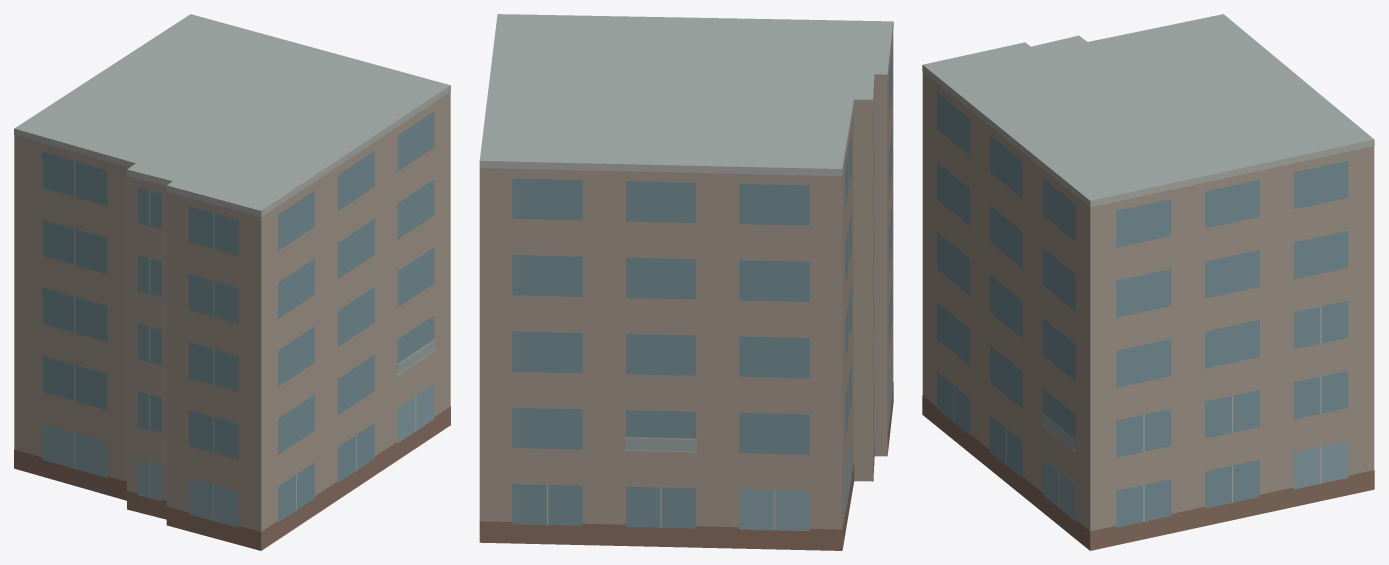
File: survey-upis-32754038.glb
3 views of the same model, side by side, from view 1: azimuth 30°, elevation 25°; view 2: azimuth 150°, elevation 25°; view 3: azimuth 270°, elevation 25° (orthographic). The views are drawn at different scales.
Visible parts, largest first — view 1: survey-upis-32754038.tmp; view 2: survey-upis-32754038.tmp; view 3: survey-upis-32754038.tmp.
Boxes of the visible parts, x1=… form: survey-upis-32754038.tmp: x1=14, y1=14, x2=450, y2=550; survey-upis-32754038.tmp: x1=479, y1=14, x2=893, y2=550; survey-upis-32754038.tmp: x1=922, y1=14, x2=1374, y2=550.
Size of the model in its own units: 14.95 by 13.05 by 15.28.
